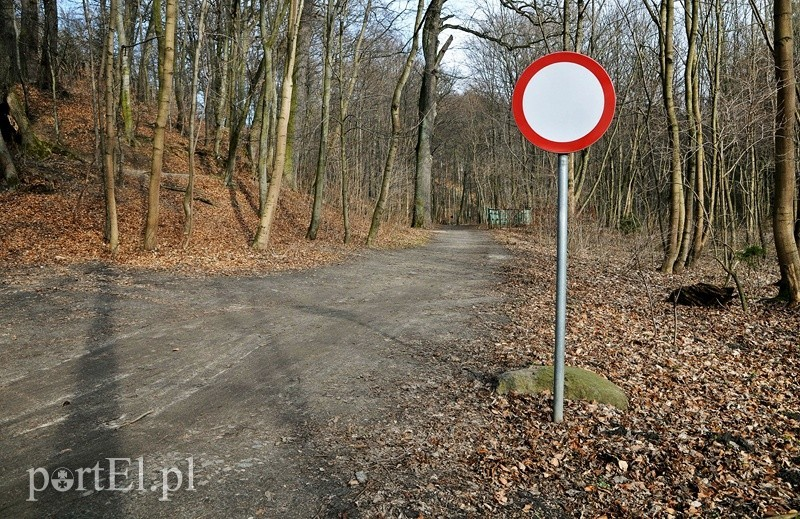no_entry_sign: (511, 50, 616, 155)
